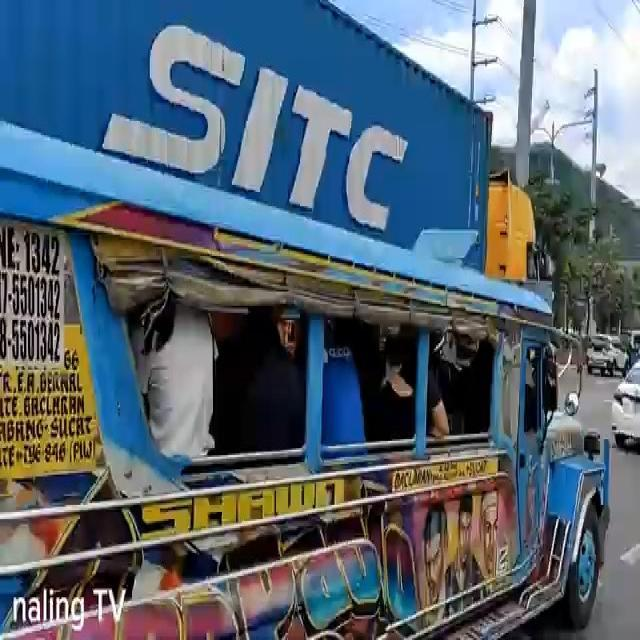jeepney: (0, 117, 611, 640)
truck: (0, 0, 544, 297)
